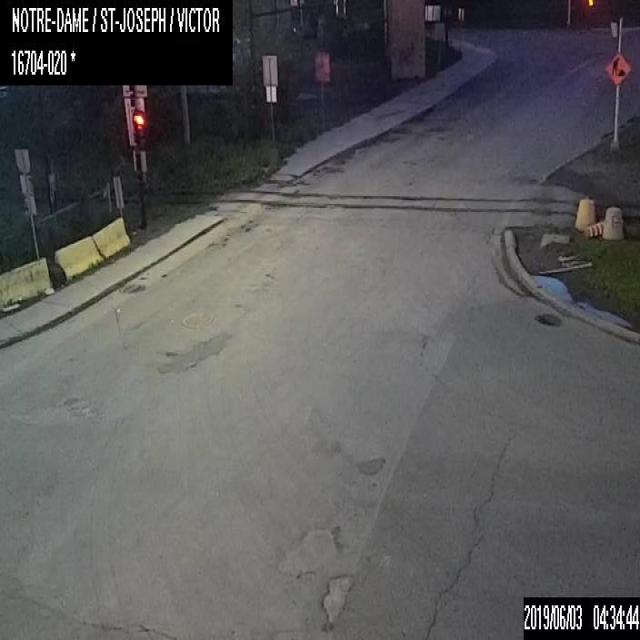construction: (604, 51, 631, 86), (584, 219, 604, 236)
